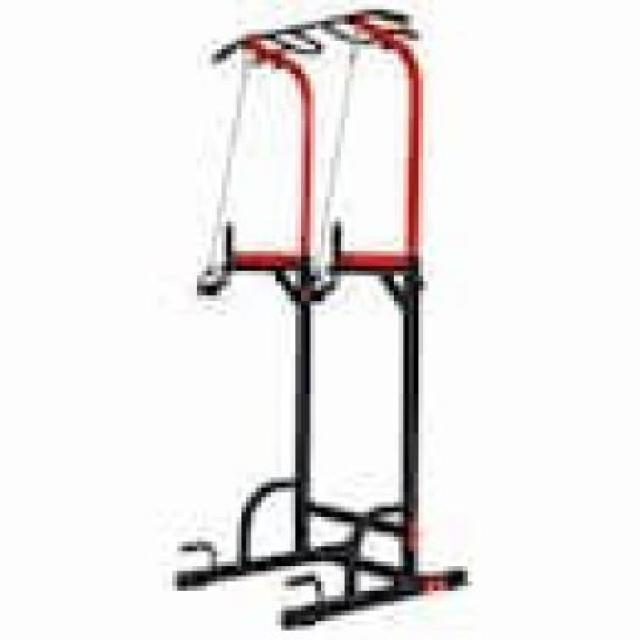chinning dipping: (169, 6, 471, 631)
